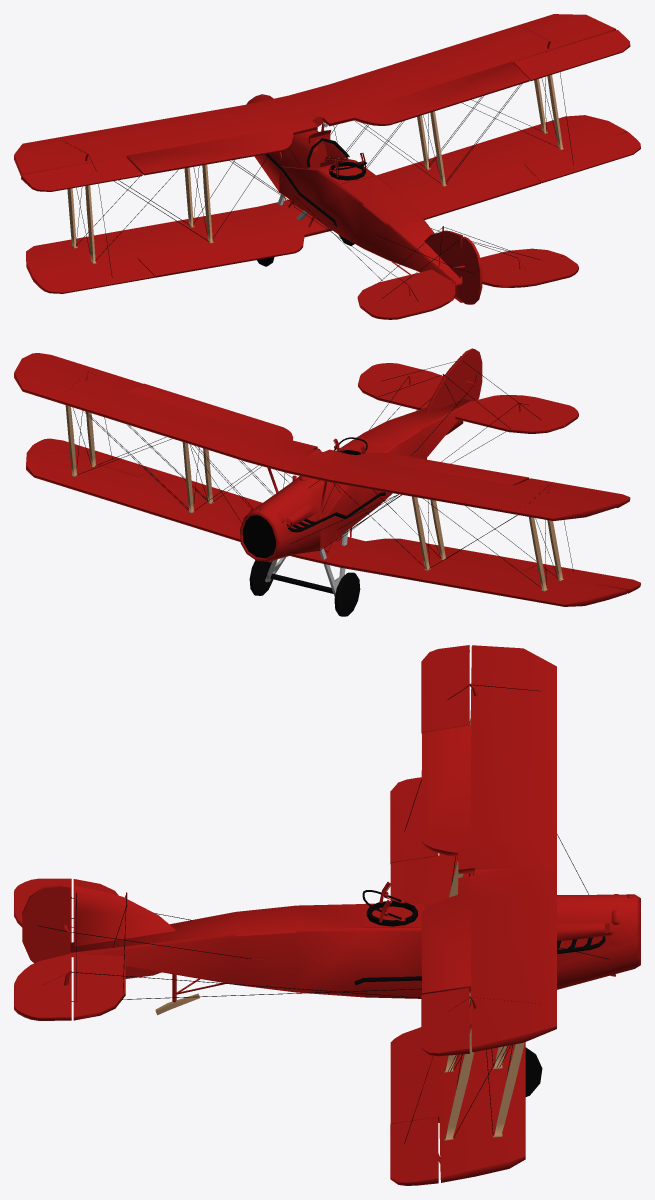
The picture shows the model from 3 angles, top to bottom: view 1: azimuth 30°, elevation 25°; view 2: azimuth 150°, elevation 25°; view 3: azimuth 270°, elevation 25°; orthographic projection. The views are drawn at different scales.
Parts seen in each view (by area): view 1: Bristol F.2B; view 2: Bristol F.2B; view 3: Bristol F.2B.
Part boxes in pixels (<box>): Bristol F.2B: <box>14,14,640,319</box>; Bristol F.2B: <box>14,348,640,616</box>; Bristol F.2B: <box>14,645,640,1185</box>.
Bounding box in the file's own units: 11786 × 3160 × 7728.
